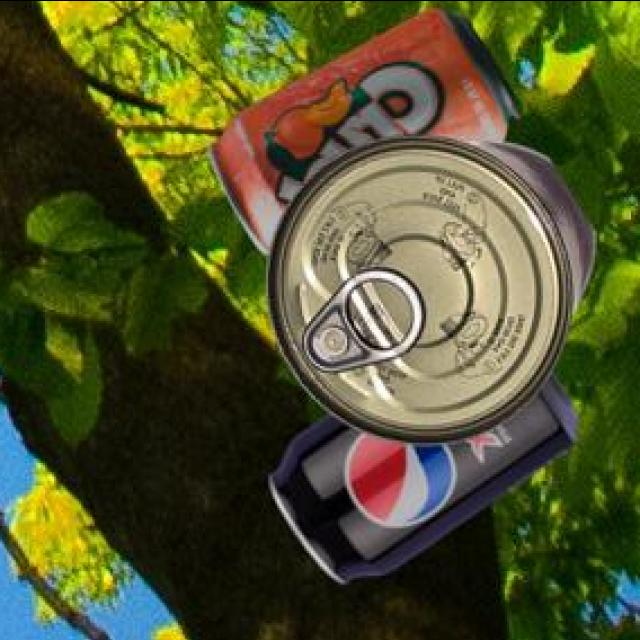logam: (263, 132, 592, 438), (204, 3, 515, 251), (267, 368, 574, 578)
